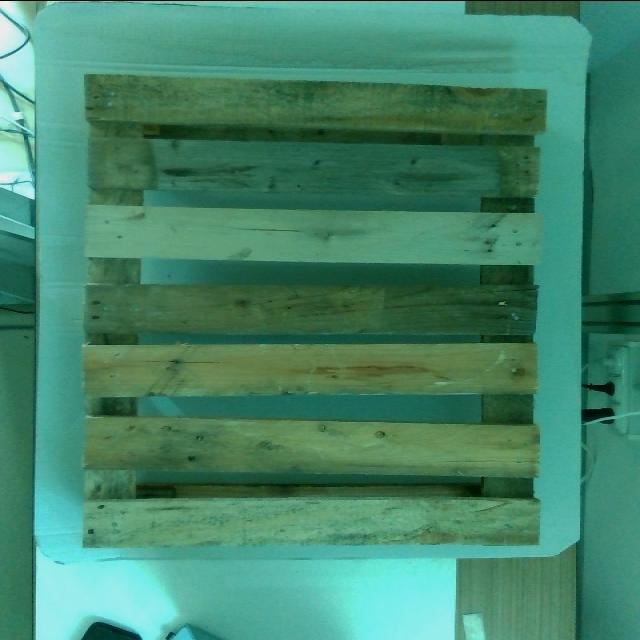pallet: (83, 73, 541, 548)
